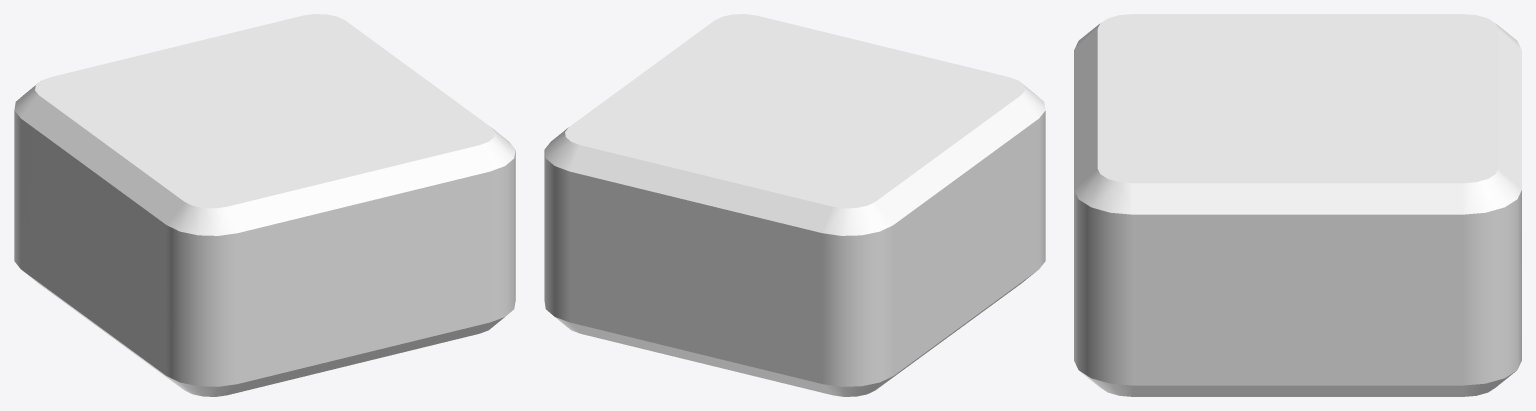
The model's file is Block2x2.obj.
The picture shows the model from 3 angles, left to right: view 1: azimuth 30°, elevation 25°; view 2: azimuth 150°, elevation 25°; view 3: azimuth 270°, elevation 25°; orthographic projection. The views are drawn at different scales.
Parts seen in each view (by area): view 1: Block.001; view 2: Block.001; view 3: Block.001.
Boxes of the visible parts, x1,y1,x2,y2 form: Block.001: [14, 14, 515, 396]; Block.001: [544, 14, 1045, 396]; Block.001: [1074, 14, 1521, 396].
Bounding box in the file's own units: 1.9 × 1 × 1.9.
1 material, 1 textured.
